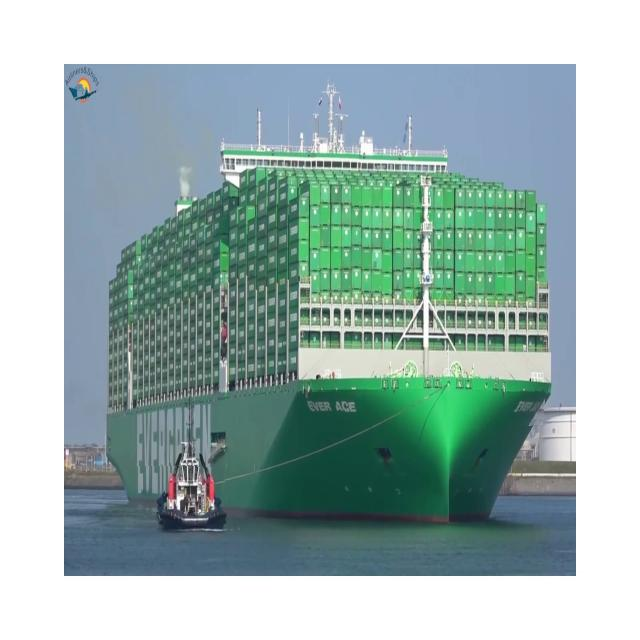OCR: (132, 398, 225, 512), (295, 390, 362, 428), (513, 384, 547, 427)
